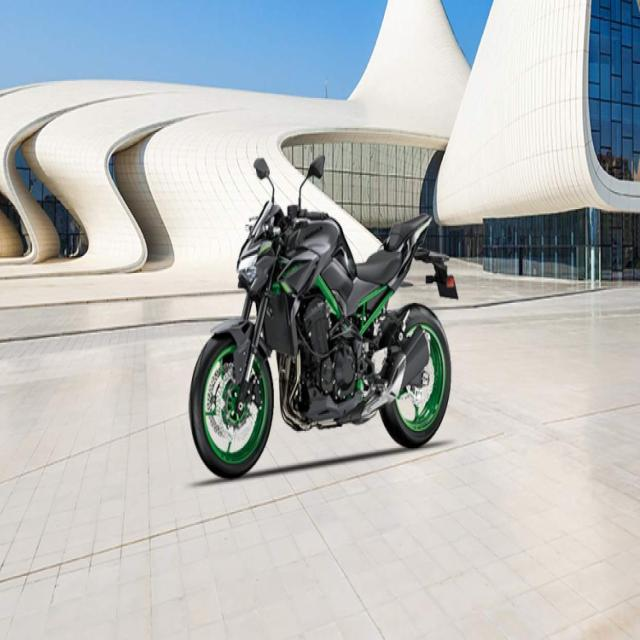motorcycle: (190, 156, 457, 477)
